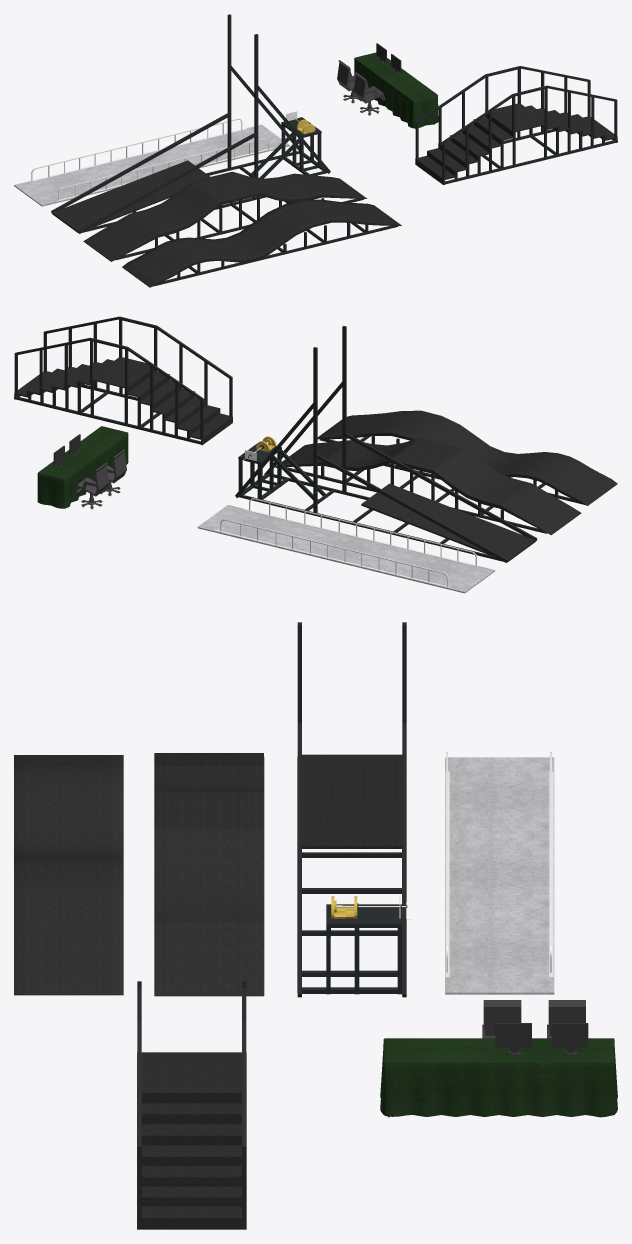
Rendered from sai_di2.dae.
3 renders of one model, top to bottom at view 1: azimuth 30°, elevation 25°; view 2: azimuth 150°, elevation 25°; view 3: azimuth 270°, elevation 25°, orthographic. The views are drawn at different scales.
Parts seen in each view (by area): view 1: _2; view 2: _2; view 3: _2.
Part boxes in pixels (bbox=[...]): _2: bbox=[14, 14, 617, 287]; _2: bbox=[14, 316, 617, 593]; _2: bbox=[14, 622, 617, 1229].
Size of the model in its own units: 9.73 by 5.21 by 2.9.
Materials: 9 (5 with a texture image).
